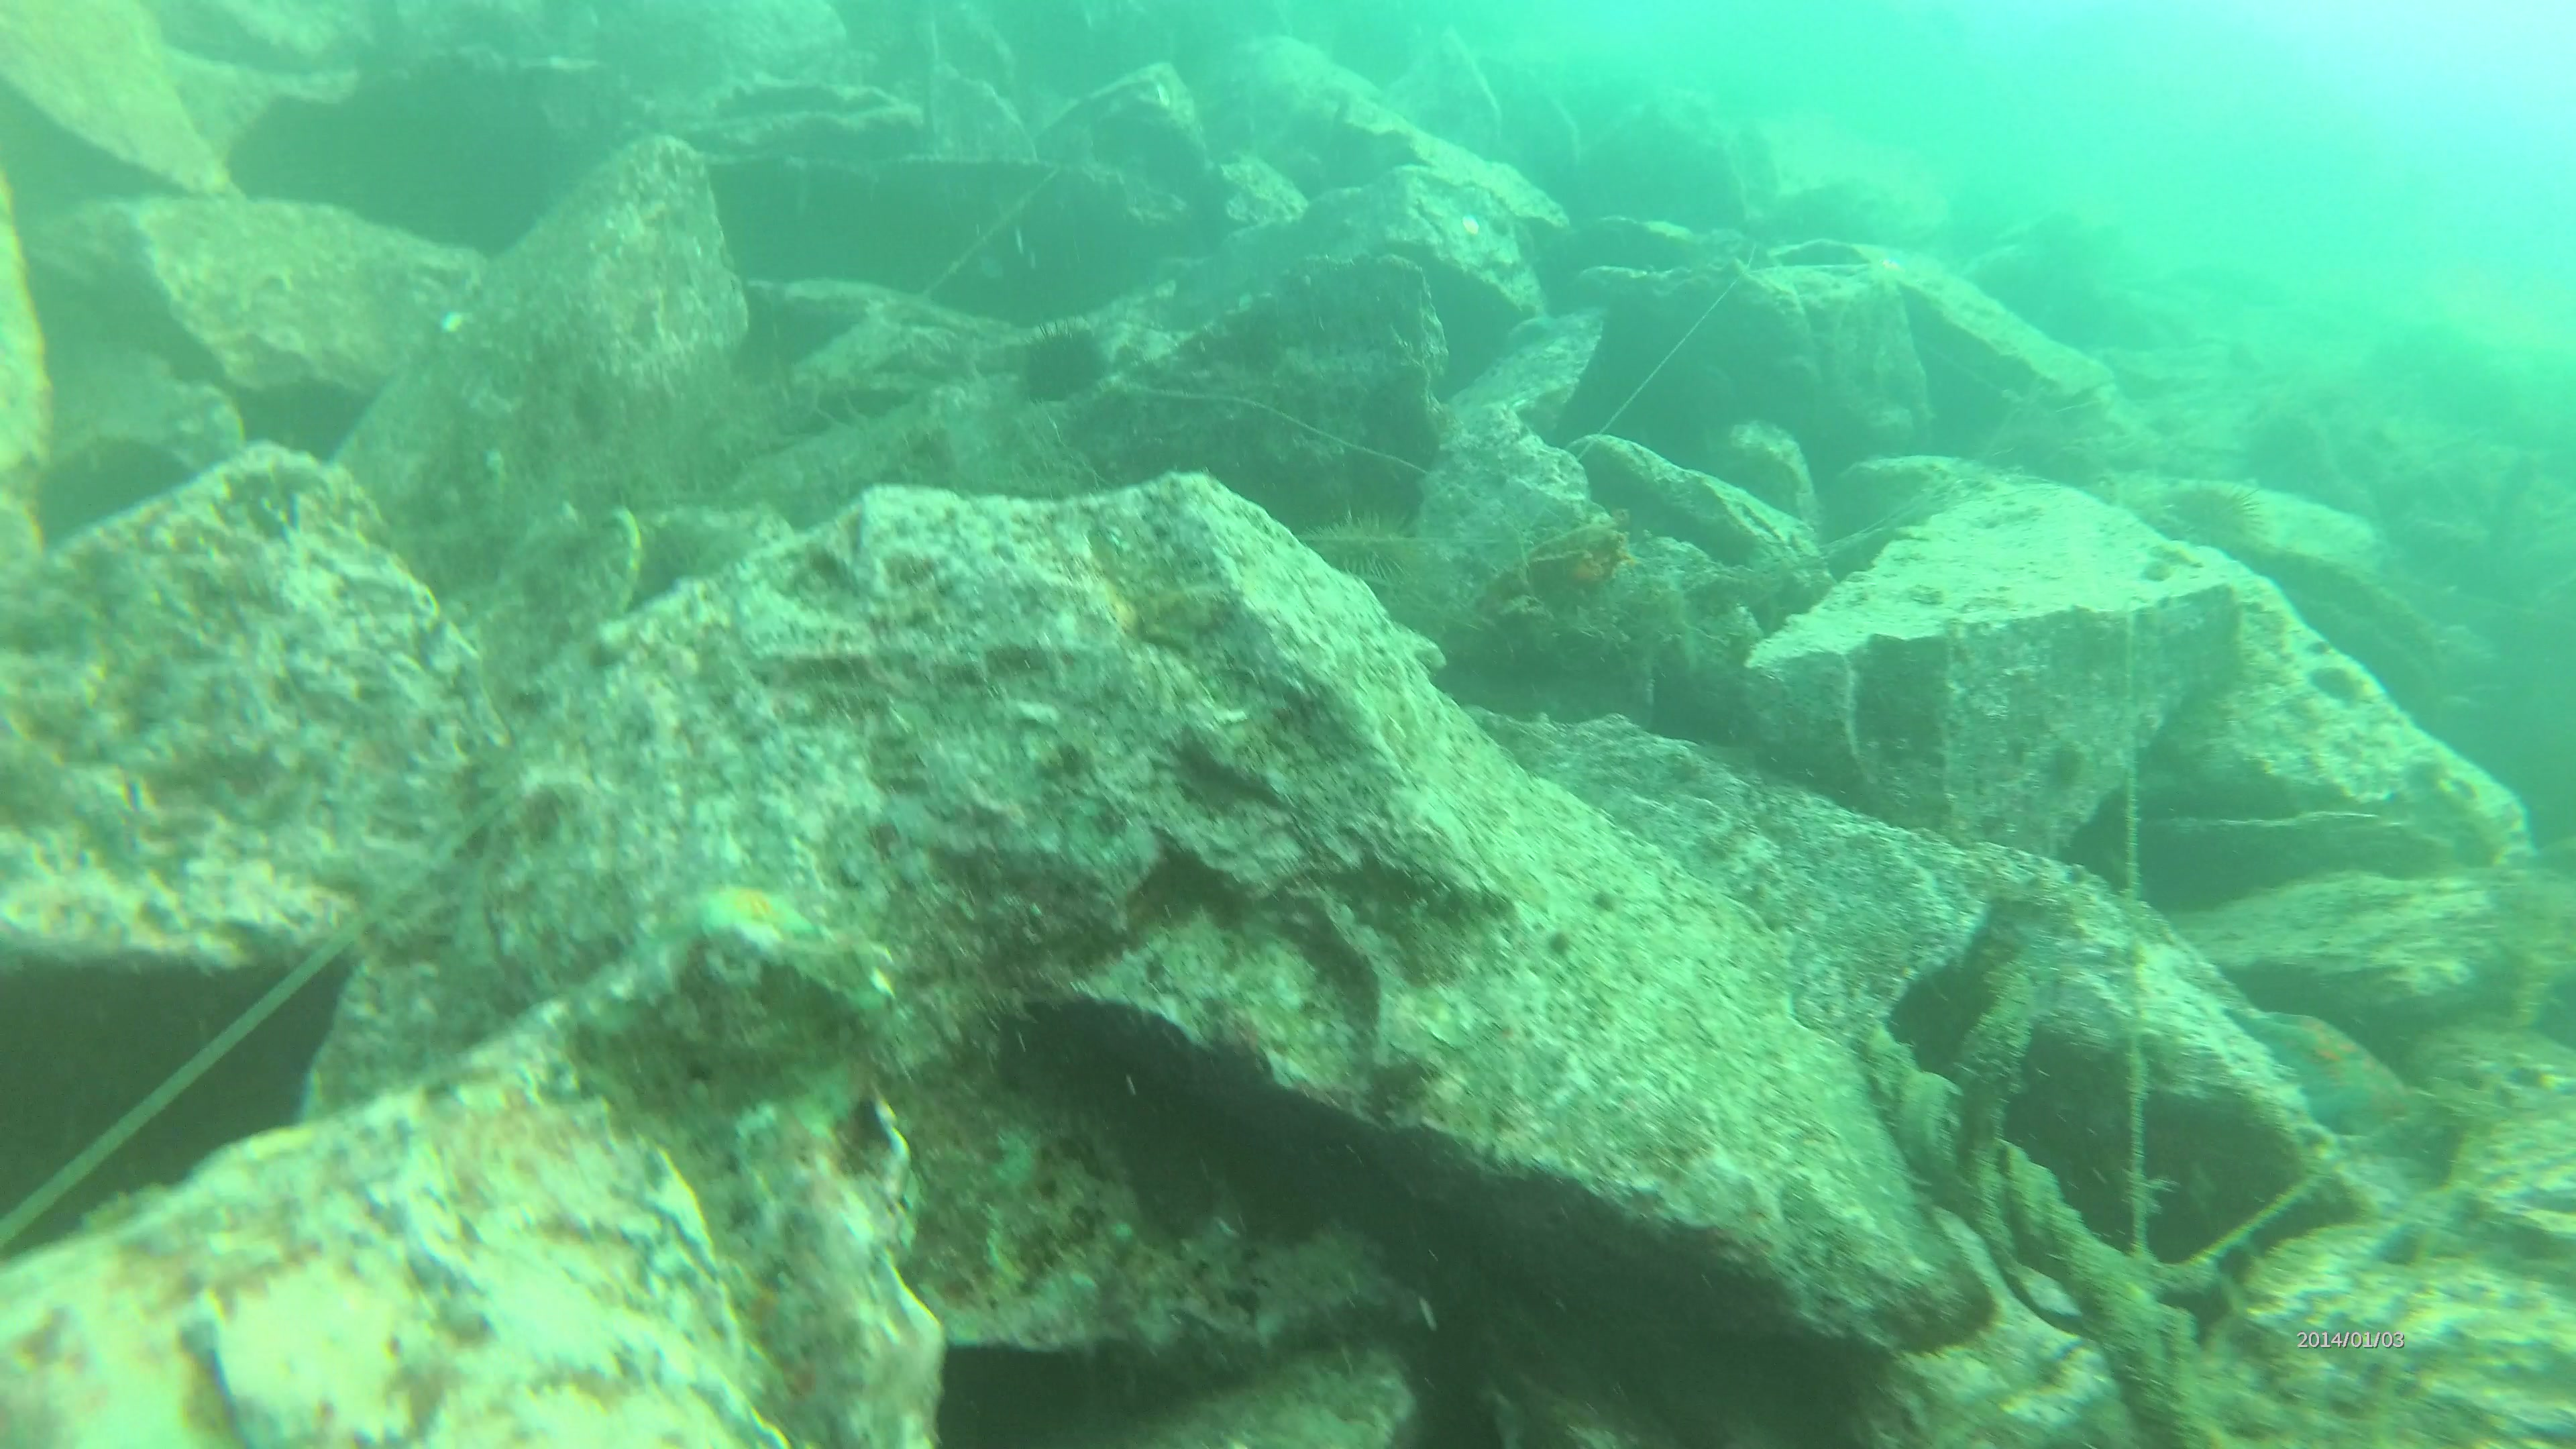echinus: (1300, 506, 1442, 616), (2144, 471, 2279, 556), (1012, 317, 1106, 396)
starfish: (2219, 987, 2429, 1155), (635, 869, 844, 970)
